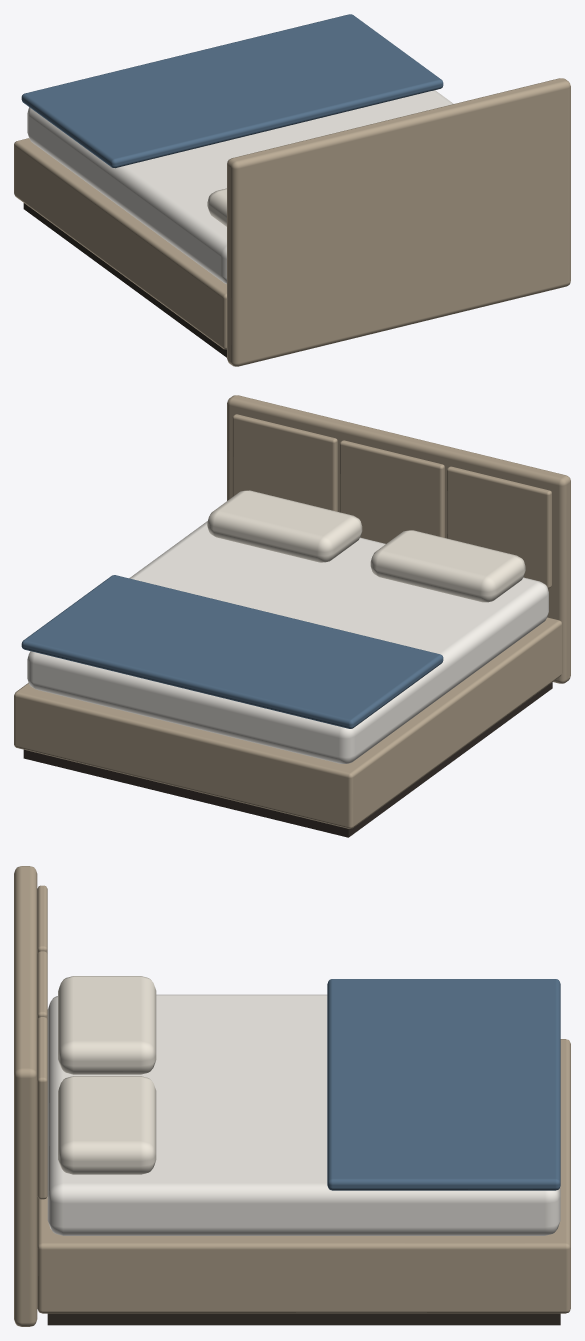
3 renders of one model, top to bottom at view 1: azimuth 30°, elevation 25°; view 2: azimuth 150°, elevation 25°; view 3: azimuth 270°, elevation 25°, orthographic. The views are drawn at different scales.
Visible parts, largest first — view 1: base, blanket, mattress, plinth, pillow-1; view 2: base, mattress, blanket, pillow-1, plinth; view 3: mattress, base, blanket, pillow-1, plinth.
Part boxes in pixels (x1,y1,x2,y2): base: [14, 78, 570, 366]; blanket: [21, 14, 443, 168]; mattress: [27, 90, 453, 283]; plinth: [23, 203, 226, 357]; pillow-1: [207, 188, 226, 226]; base: [14, 395, 570, 828]; mattress: [27, 521, 548, 763]; blanket: [21, 575, 443, 728]; pillow-1: [207, 490, 525, 602]; plinth: [23, 682, 552, 837]; mattress: [47, 994, 560, 1235]; base: [14, 866, 570, 1326]; blanket: [327, 979, 560, 1190]; pillow-1: [58, 976, 156, 1174]; plinth: [47, 1313, 560, 1325].
Size of the model in its own units: 1.9 by 1.1 by 2.15.
